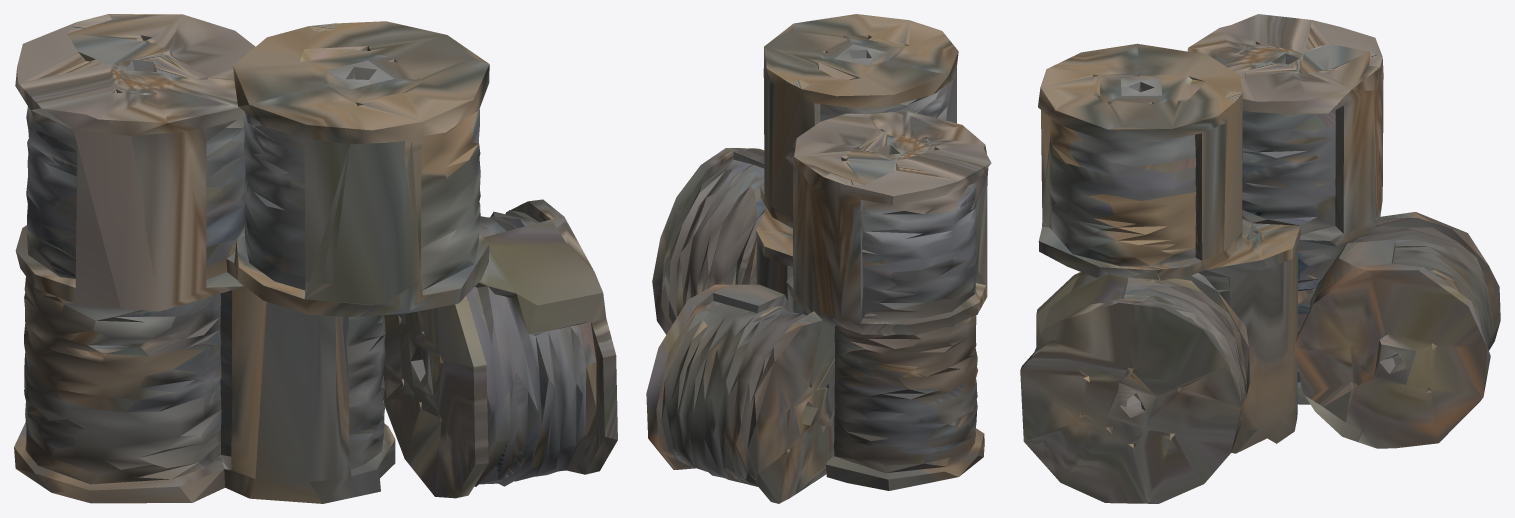
Rendered from k08_far.glb.
3 views of the same model, side by side, from view 1: azimuth 30°, elevation 25°; view 2: azimuth 150°, elevation 25°; view 3: azimuth 270°, elevation 25° (orthographic). The views are drawn at different scales.
Parts seen in each view (by area): view 1: k08_far; view 2: k08_far; view 3: k08_far.
Part boxes in pixels (box(x1,y1,x2,y2)): k08_far: box(14, 14, 617, 503); k08_far: box(646, 14, 991, 503); k08_far: box(1020, 14, 1500, 503).
Bounding box in the file's own units: 13.13 × 12 × 15.11.
1 material, 1 textured.
